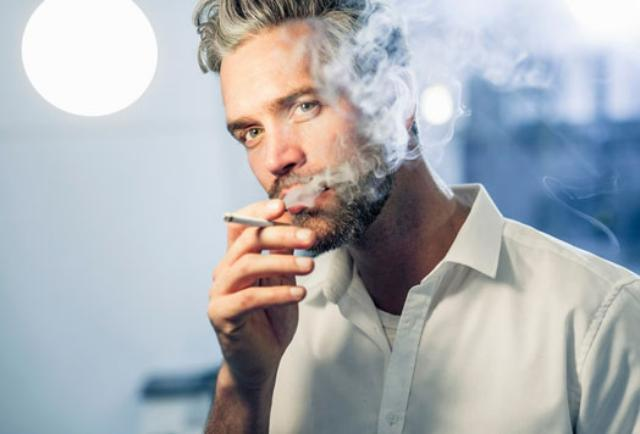SafeDriving: (282, 86, 331, 127), (228, 111, 272, 152)
Smoking: (220, 209, 290, 233)
